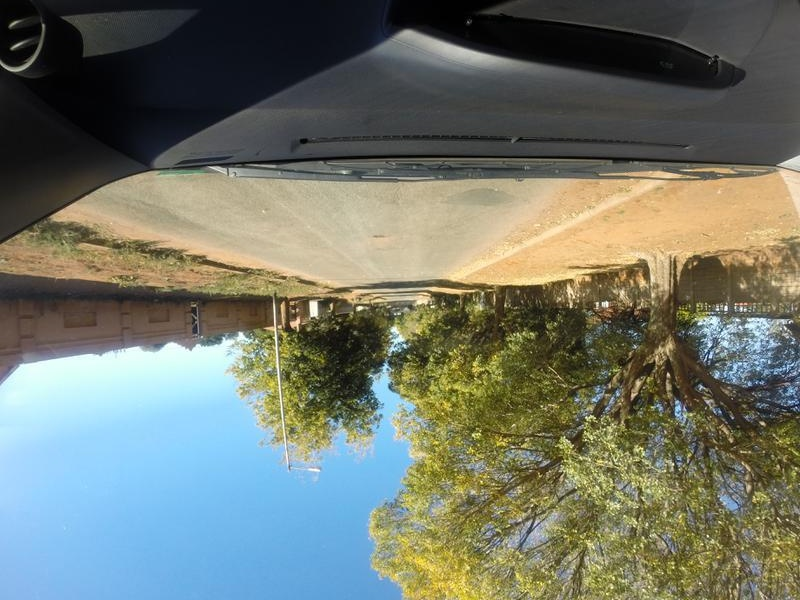pothole: (349, 229, 415, 262)
